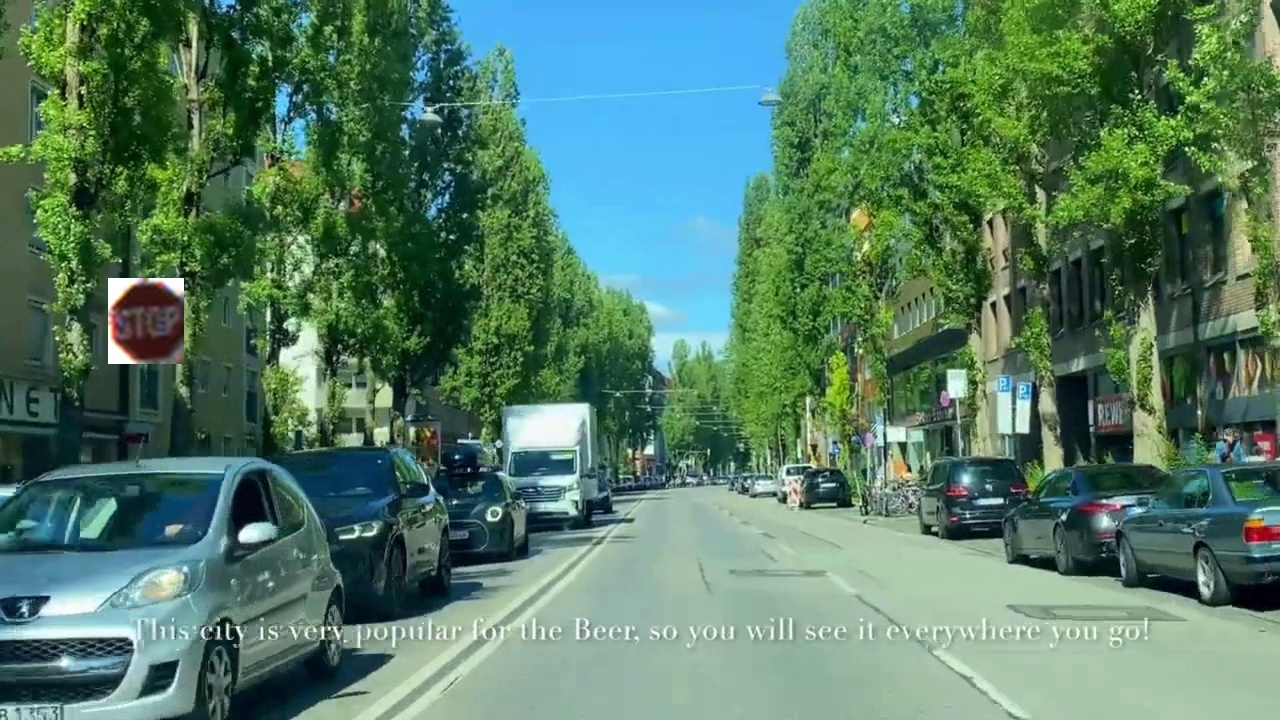Stop: (108, 278, 184, 364)
